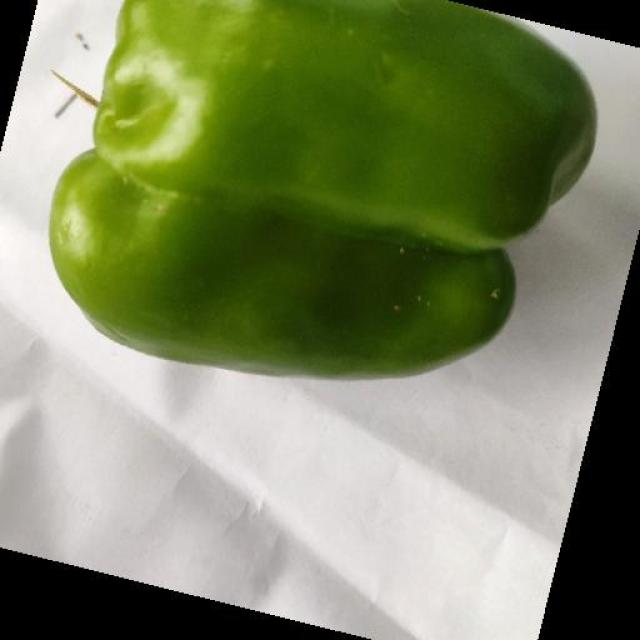Fresh_Capsicum: (79, 24, 450, 326)
